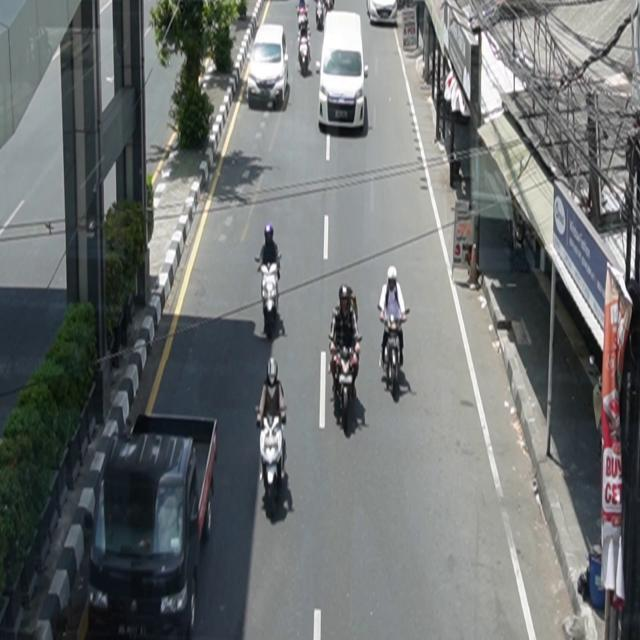car: (317, 11, 370, 131), (248, 24, 290, 111), (367, 1, 398, 26)
